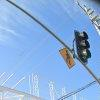traffic lights: (73, 29, 93, 65)
